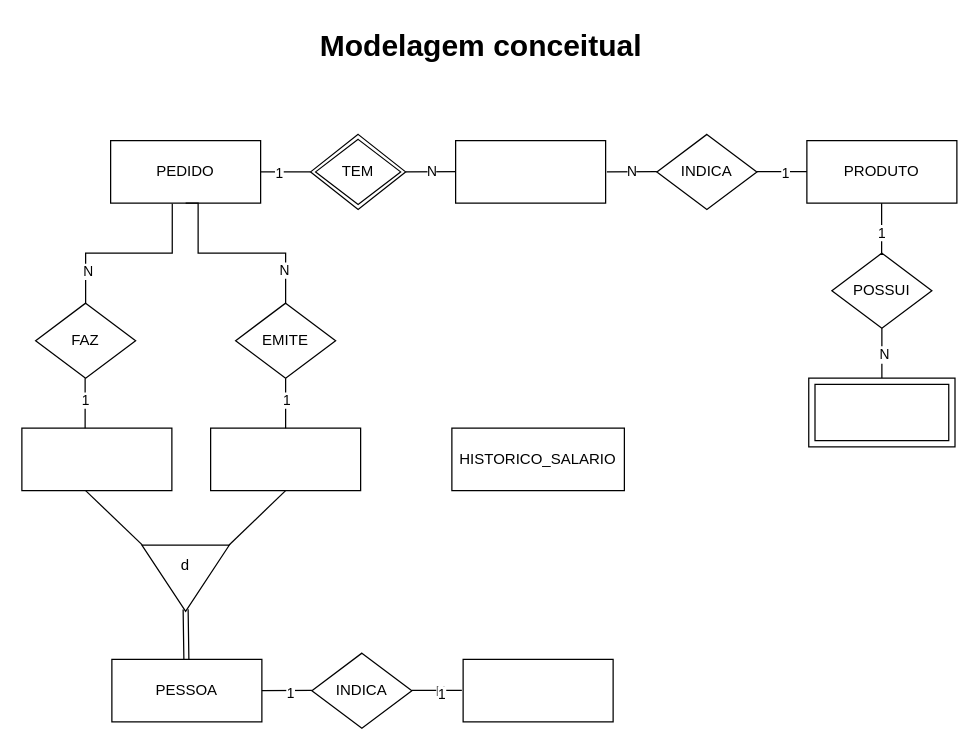
This 979x750 diagram has some shape labels left out. The centre of each missing label's shape, as x and y in pixels:
CLIENTE: (96,459)
IMAGEM: (881,412)
ITEM_PEDIDO: (530,171)
LOGIN: (537,690)
VENDEDOR: (285,459)
